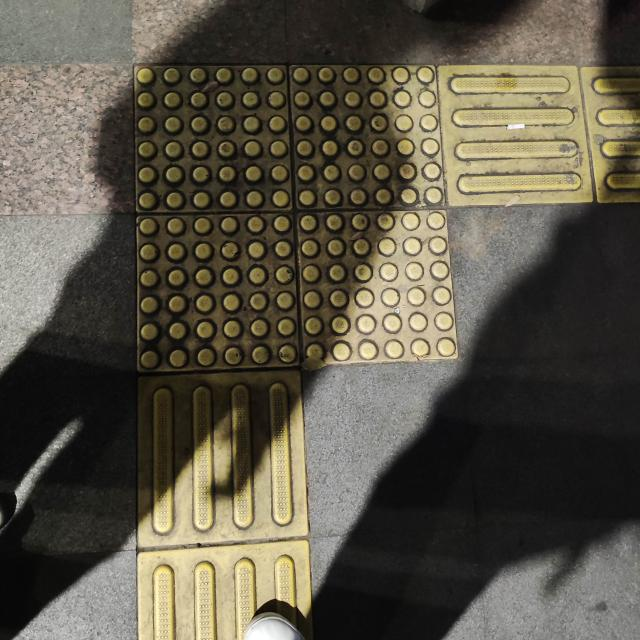kanan: (50, 8, 640, 458)
